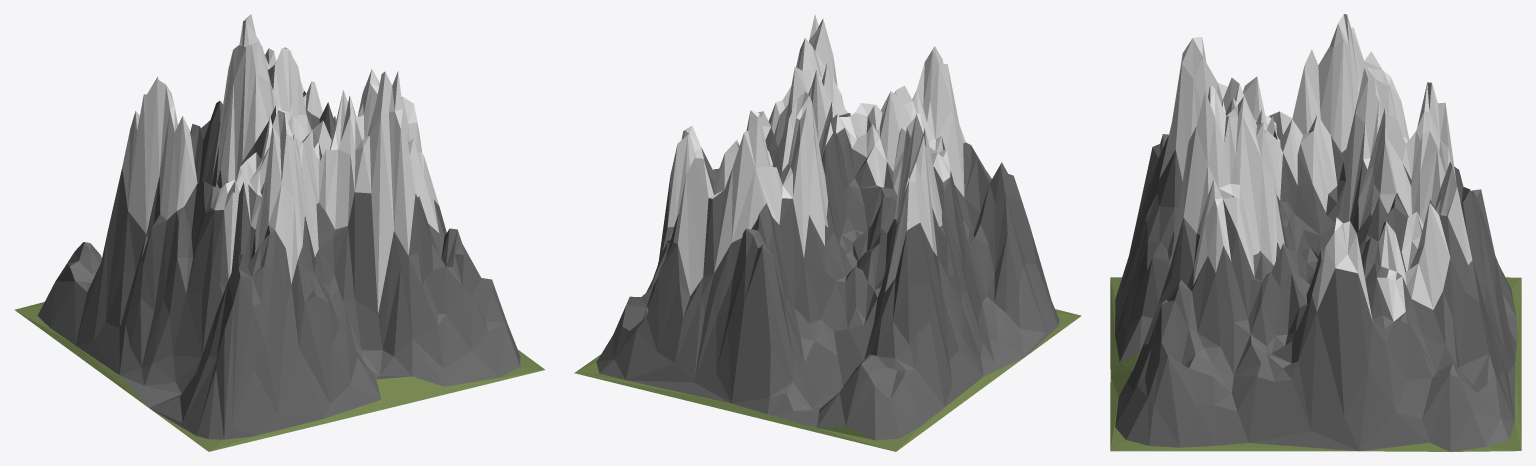
The model's file is Terrain_11.fbx.
The picture shows the model from 3 angles, left to right: view 1: azimuth 30°, elevation 25°; view 2: azimuth 150°, elevation 25°; view 3: azimuth 270°, elevation 25°; orthographic projection. The views are drawn at different scales.
Parts seen in each view (by area): view 1: Terrain_11; view 2: Terrain_11; view 3: Terrain_11.
Part boxes in pixels (x1=…): Terrain_11: x1=14, y1=14, x2=544, y2=451; Terrain_11: x1=574, y1=14, x2=1081, y2=451; Terrain_11: x1=1110, y1=14, x2=1521, y2=451.
Bounding box in the file's own units: 19999 × 16583 × 19998.
